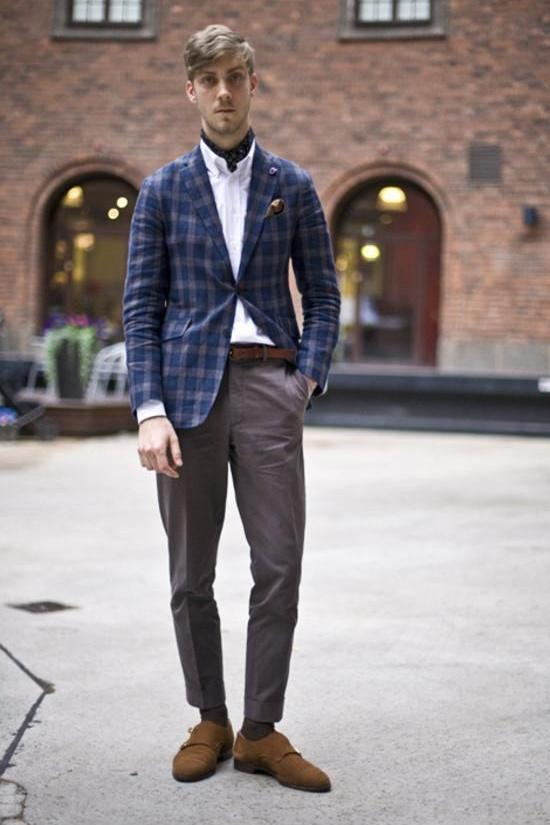pants: (146, 344, 306, 724)
sweater: (127, 135, 341, 430)
